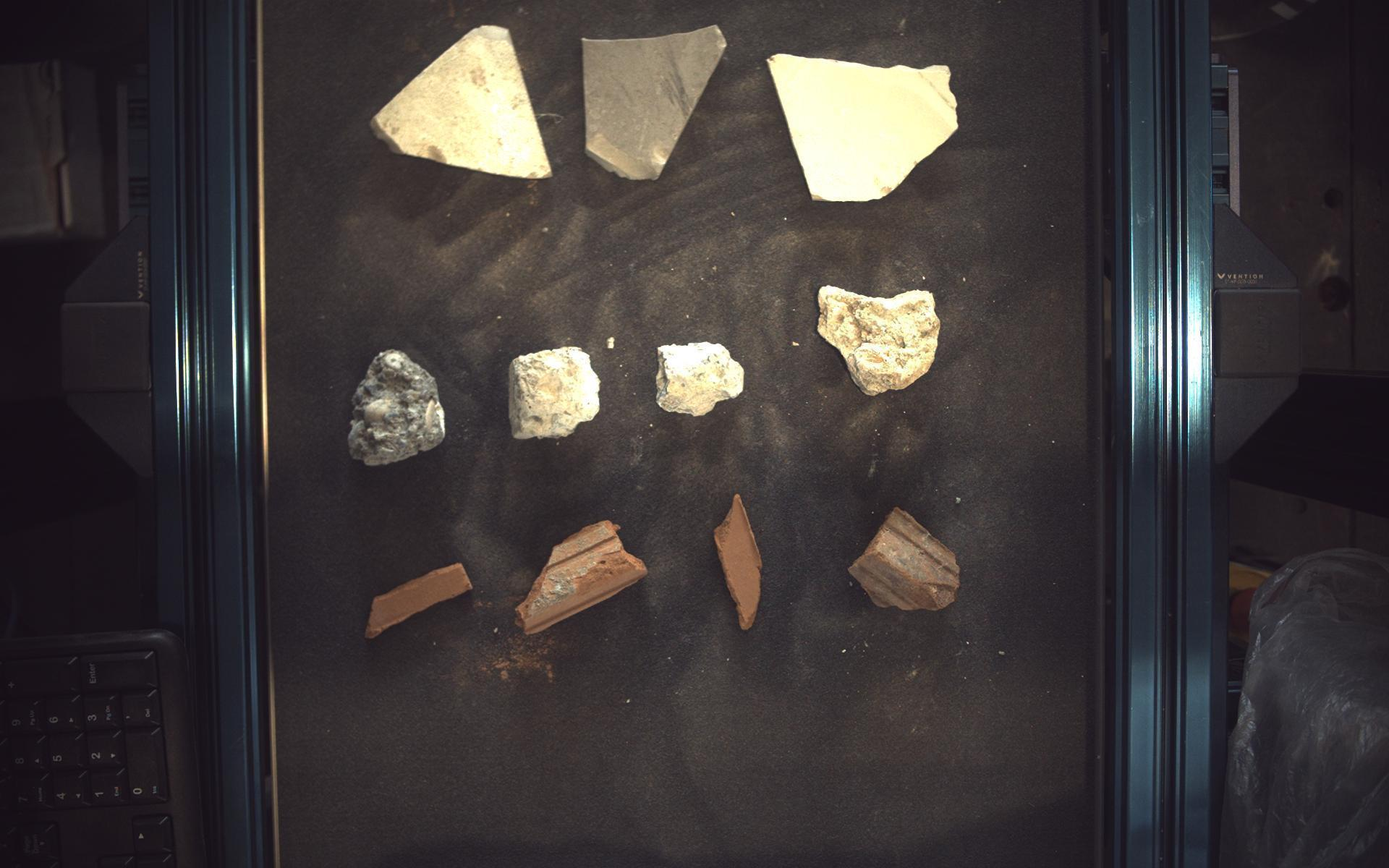brick: (517, 521, 648, 635), (851, 508, 961, 611), (365, 563, 472, 639), (715, 495, 764, 631)
concrete: (819, 286, 942, 396), (348, 349, 445, 467), (509, 346, 600, 439), (657, 341, 745, 417)
tile: (769, 52, 959, 200), (370, 24, 552, 178), (582, 25, 727, 179)
